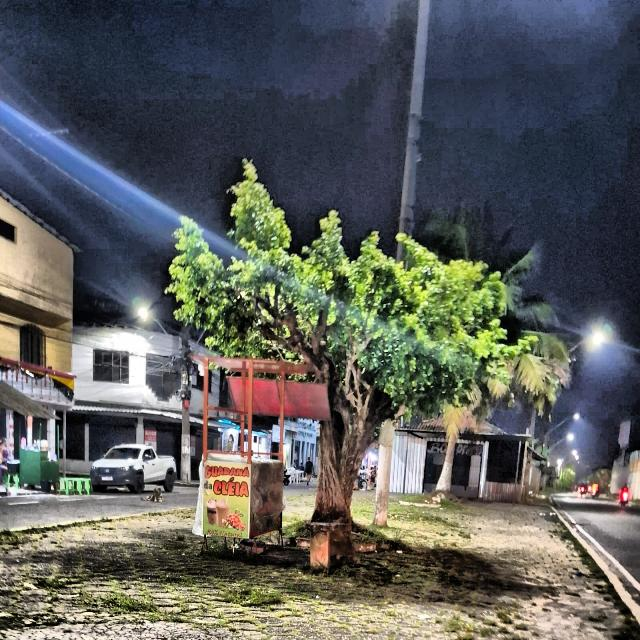arvore: (131, 206, 548, 603)
